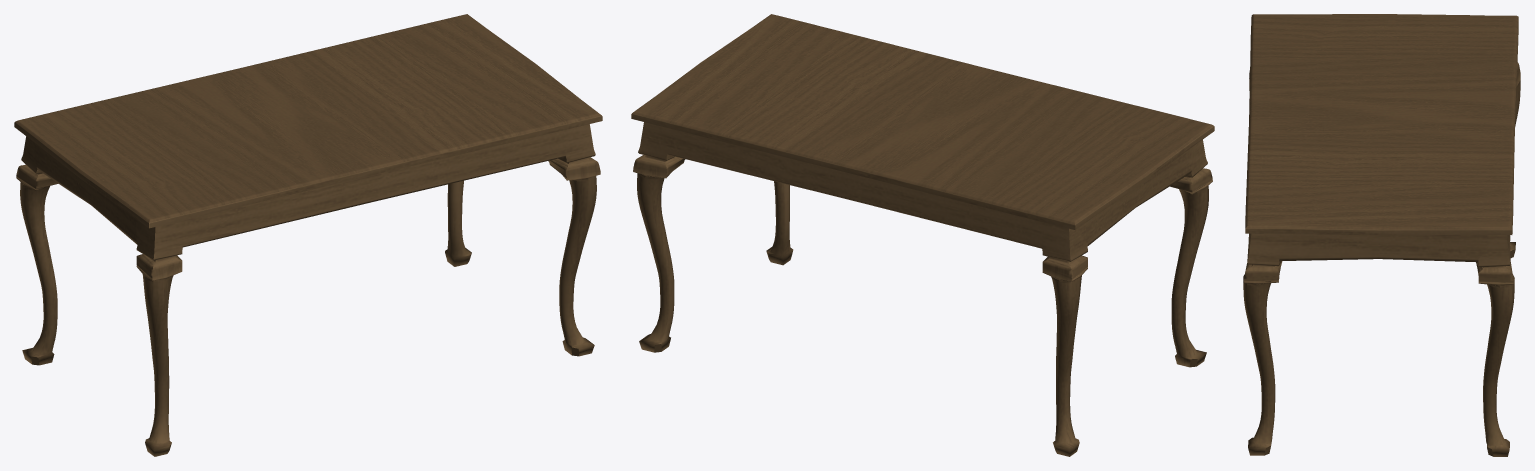
Rendered from normal.obj.
3 views of the same model, side by side, from view 1: azimuth 30°, elevation 25°; view 2: azimuth 150°, elevation 25°; view 3: azimuth 270°, elevation 25° (orthographic). The views are drawn at different scales.
Parts seen in each view (by area): view 1: pCube1_blinn1_0_blinn1; view 2: pCube1_blinn1_0_blinn1; view 3: pCube1_blinn1_0_blinn1.
Boxes of the visible parts, x1,y1,x2,y2 form: pCube1_blinn1_0_blinn1: (14,14,602,456); pCube1_blinn1_0_blinn1: (631,14,1214,456); pCube1_blinn1_0_blinn1: (1243,14,1520,456).
Bounding box in the file's own units: 9.66 × 4.87 × 5.26.
